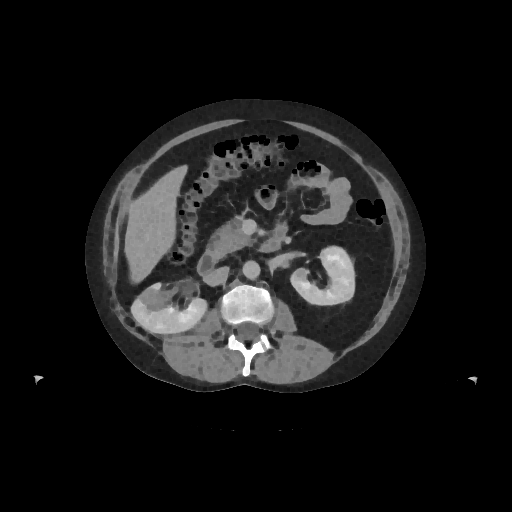Lesion: (140, 287, 175, 311)
